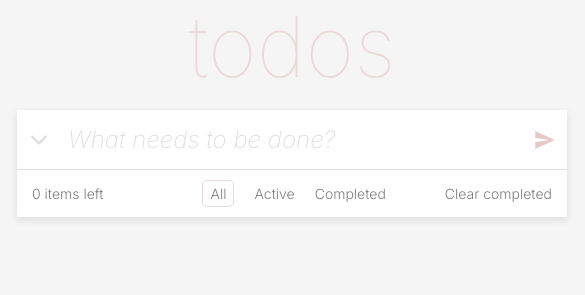
Test case: Todo showed by click on send button
Type "Todo 1" into the field at (244, 140), box [66,124,422,155]
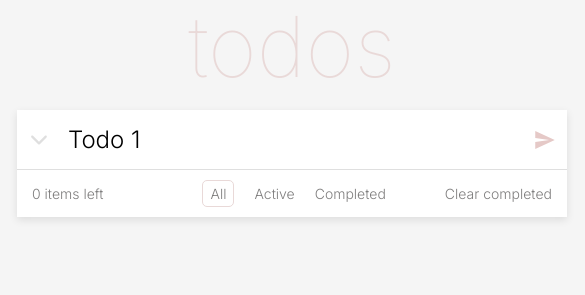
Click the icon with test id "addBtn" at (545, 140), box [533,128,557,152]
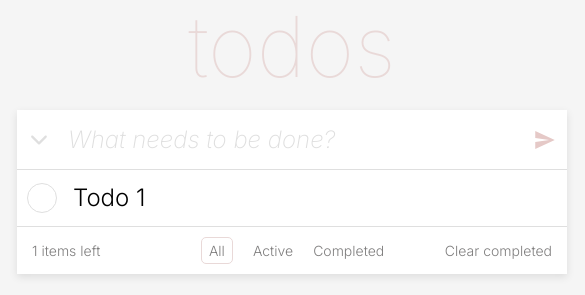
Result: the heading "Todo 1" is shown at [73,180,146,216]
